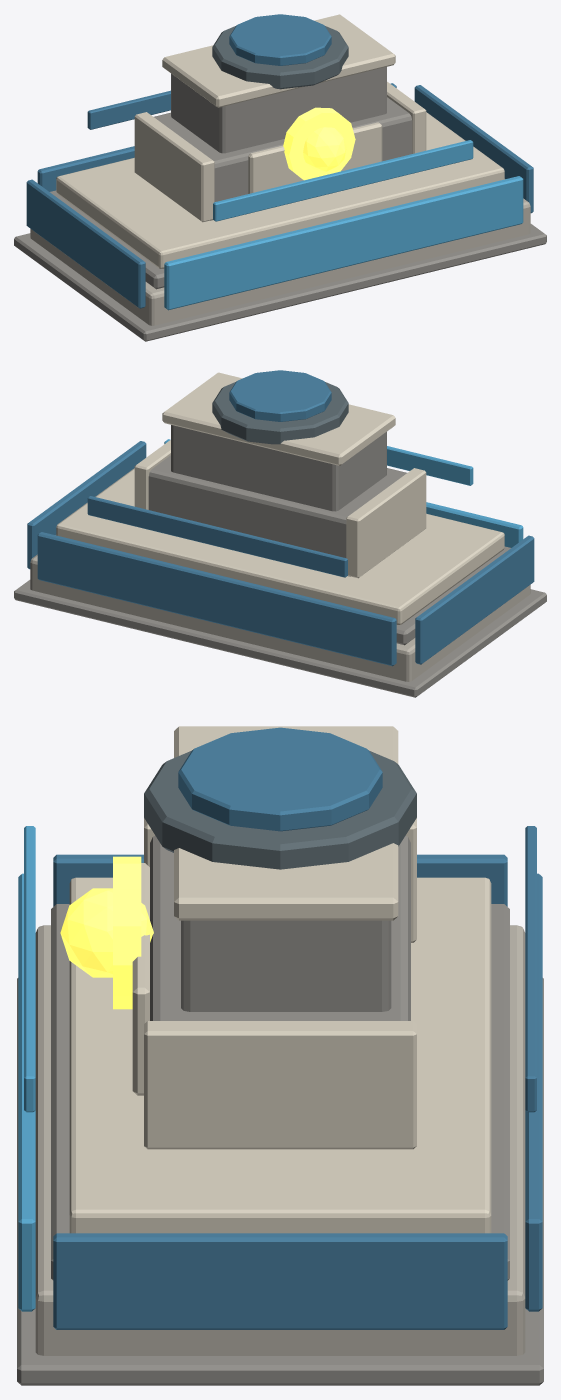
The model's file is hq_common.glb.
3 views of the same model, one above another, from view 1: azimuth 30°, elevation 25°; view 2: azimuth 150°, elevation 25°; view 3: azimuth 270°, elevation 25° (orthographic). The views are drawn at different scales.
Parts seen in each view (by area): view 1: Base_Top, FactionPanel_Front, Core_UpperHousing, Base_Skirt, Base_Main, FactionPanel_Left, Core_UpperTrim, Core_Frame_Left, FactionTrim_Front, Core_Housing, Turret_Collar, Turret_Base (+8 smaller); view 2: Base_Top, FactionPanel_Back, Core_UpperHousing, Core_Housing, Base_Skirt, Base_Main, FactionPanel_Left, Core_UpperTrim, Core_Frame_Left, FactionTrim_Back, Turret_Collar, Turret_Base (+5 smaller); view 3: Base_Top, FactionPanel_Right, Core_Frame_Right, Base_Main, Core_UpperHousing, Base_Skirt, Turret_Collar, Core_UpperTrim, Turret_Base, Base_Trim, Core_Housing, FactionPanel_Back (+8 smaller).
Boxes of the visible parts, left/top/right/bottom form: Base_Top: left=56, top=112, right=504, bottom=268; FactionPanel_Front: left=164, top=176, right=523, bottom=310; Core_UpperHousing: left=171, top=67, right=386, bottom=153; Base_Skirt: left=14, top=224, right=546, bottom=341; Base_Main: left=30, top=198, right=530, bottom=325; FactionPanel_Left: left=26, top=179, right=145, bottom=308; Core_UpperTrim: left=162, top=14, right=395, bottom=107; Core_Frame_Left: left=134, top=112, right=214, bottom=222; FactionTrim_Front: left=213, top=140, right=473, bottom=221; Core_Housing: left=154, top=97, right=412, bottom=220; Turret_Collar: left=229, top=14, right=331, bottom=65; Turret_Base: left=212, top=26, right=348, bottom=89; Base_Top: left=56, top=468, right=504, bottom=624; FactionPanel_Back: left=37, top=532, right=396, bottom=666; Core_UpperHousing: left=171, top=425, right=386, bottom=511; Core_Housing: left=148, top=455, right=406, bottom=576; Base_Skirt: left=14, top=580, right=546, bottom=697; Base_Main: left=30, top=554, right=530, bottom=681; FactionPanel_Left: left=415, top=535, right=534, bottom=664; Core_UpperTrim: left=162, top=372, right=395, bottom=465; Core_Frame_Left: left=346, top=468, right=426, bottom=578; FactionTrim_Back: left=87, top=496, right=347, bottom=577; Turret_Collar: left=229, top=370, right=331, bottom=421; Turret_Base: left=212, top=382, right=348, bottom=444; Base_Top: left=69, top=877, right=491, bottom=1233; FactionPanel_Right: left=53, top=1233, right=507, bottom=1329; Core_Frame_Right: left=144, top=1021, right=416, bottom=1149; Base_Main: left=35, top=925, right=525, bottom=1355; Core_UpperHousing: left=181, top=920, right=391, bottom=1011; Base_Skirt: left=17, top=978, right=543, bottom=1385; Turret_Collar: left=178, top=727, right=382, bottom=831; Core_UpperTrim: left=174, top=726, right=398, bottom=920; Turret_Base: left=144, top=751, right=416, bottom=869; Base_Trim: left=51, top=904, right=509, bottom=1280; Core_Housing: left=150, top=835, right=410, bottom=1020; FactionPanel_Back: left=525, top=873, right=542, bottom=1311.
Size of the model in its own units: 6.56 by 3.27 by 3.71.
